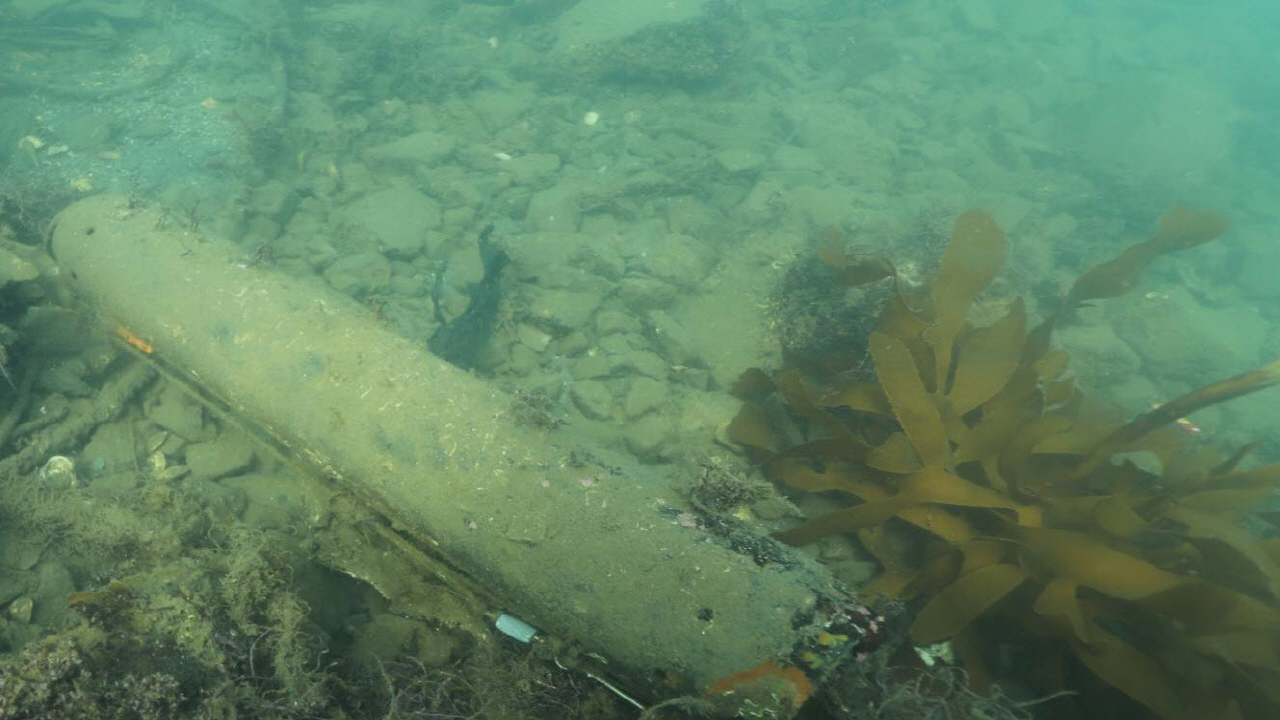eel fish trap: (42, 192, 884, 720)
